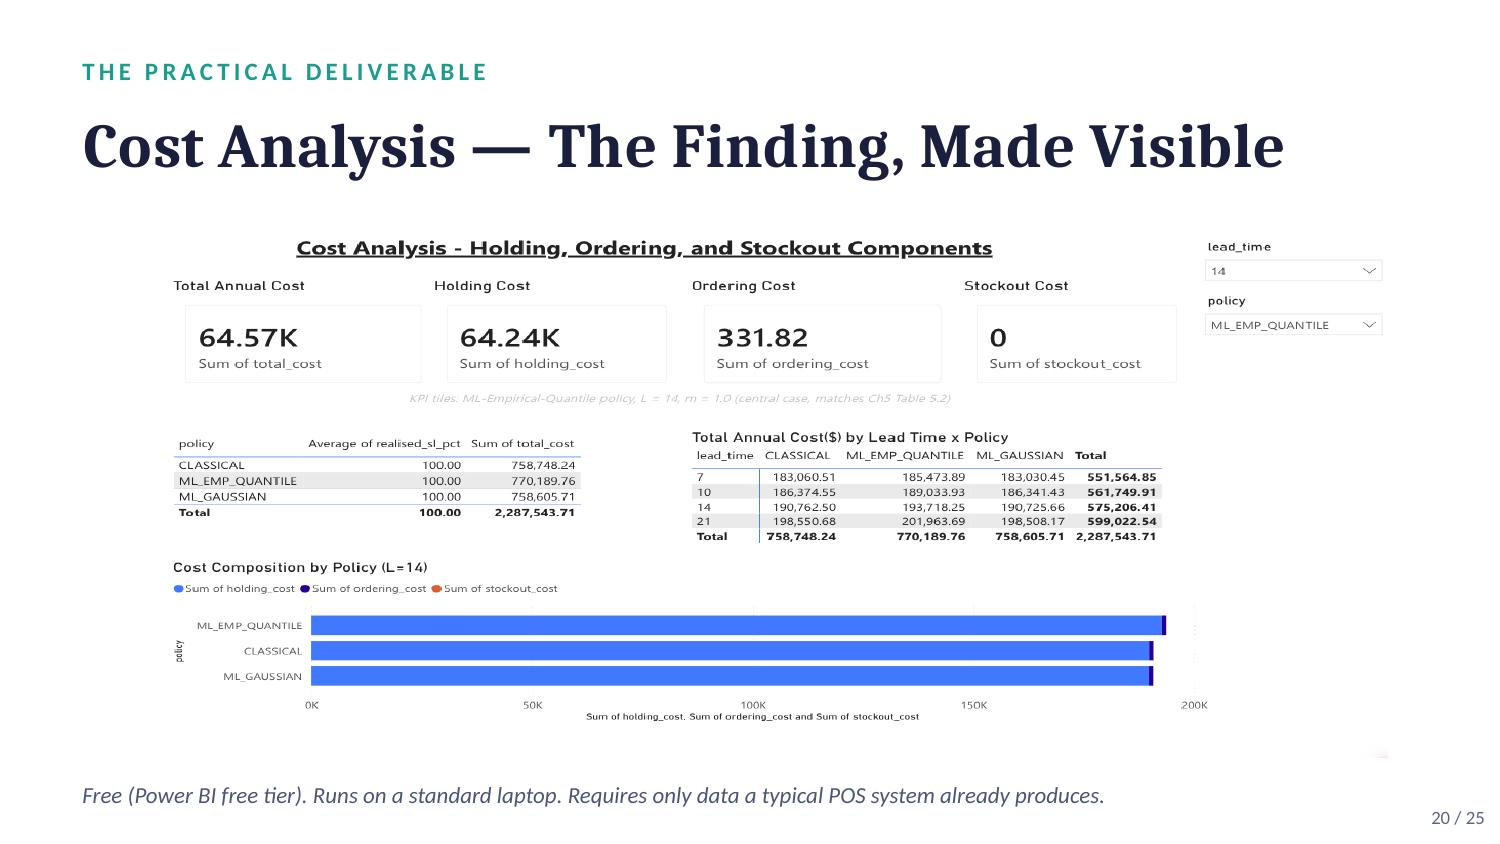

Layout of this report page (visuals, bound fields, positions):
{"tool":"powerbi","page":{"name":"cost Analysis","canvas":[1280,720],"ordinal":2},"visuals":[{"type":"textbox","box":[145,18.9,790.4,54.6],"z":1},{"type":"cardVisual","title":"Total Annual Cost","fields":{"Data":["Sum(cost_analysis.total_cost)"]},"box":[68.5,83.4,268.1,149.9],"z":2},{"type":"cardVisual","title":"Ordering Cost","fields":{"Data":["Sum(cost_analysis.ordering_cost)"]},"box":[581.7,83.1,269.6,150],"z":3},{"type":"cardVisual","title":"Stockout Cost","fields":{"Data":["Sum(cost_analysis.stockout_cost)"]},"box":[851.3,83.1,233.1,150],"z":4},{"type":"cardVisual","title":"Holding Cost","fields":{"Data":["Sum(cost_analysis.holding_cost)"]},"box":[327.3,83.1,252.4,150],"z":5},{"type":"tableEx","fields":{"Values":["cost_analysis.policy","Avg(cost_analysis.realised_sl_pct)","Sum(cost_analysis.total_cost)"]},"box":[68.9,276.7,471.3,166.2],"z":6},{"type":"pivotTable","title":"Total Annual Cost($) by Lead Time x Policy","fields":{"Columns":["cost_analysis.policy"],"Rows":["cost_analysis.lead_time"],"Values":["Sum(cost_analysis.total_cost)"]},"box":[581.7,276.7,531.1,165.2],"z":7},{"type":"barChart","title":"Cost Composition by Policy (L=14)","fields":{"Category":["cost_analysis.policy"],"Y":["Sum(cost_analysis.holding_cost)","Sum(cost_analysis.ordering_cost)","Sum(cost_analysis.stockout_cost)"]},"box":[68.9,442.9,1033.7,208.8],"z":8},{"type":"slicer","fields":{"Values":["cost_analysis.lead_time"]},"box":[1084.4,29.4,195.6,72],"z":9},{"type":"slicer","fields":{"Values":["cost_analysis.policy"]},"box":[1084.4,98.3,195.6,59.8],"z":10},{"type":"textbox","box":[85.1,219.9,979,30.4],"z":11}]}

Visuals, with their boxes in screenshot pixels (x1, y1, x2, y2), scaled from the page's 1280x720 canvas onto the 1500x844 screenshot:
textbox: box=[170, 22, 1096, 86]
"Total Annual Cost" cardVisual: box=[80, 98, 394, 273]
"Ordering Cost" cardVisual: box=[682, 97, 998, 273]
"Stockout Cost" cardVisual: box=[998, 97, 1271, 273]
"Holding Cost" cardVisual: box=[384, 97, 679, 273]
tableEx - cost_analysis.policy x Avg(cost_analysis.realised_sl_pct): box=[81, 324, 633, 519]
"Total Annual Cost($) by Lead Time x Policy" pivotTable: box=[682, 324, 1304, 518]
"Cost Composition by Policy (L=14)" barChart: box=[81, 519, 1292, 764]
slicer - cost_analysis.lead_time: box=[1271, 34, 1499, 119]
slicer - cost_analysis.policy: box=[1271, 115, 1499, 185]
textbox: box=[100, 258, 1247, 293]
